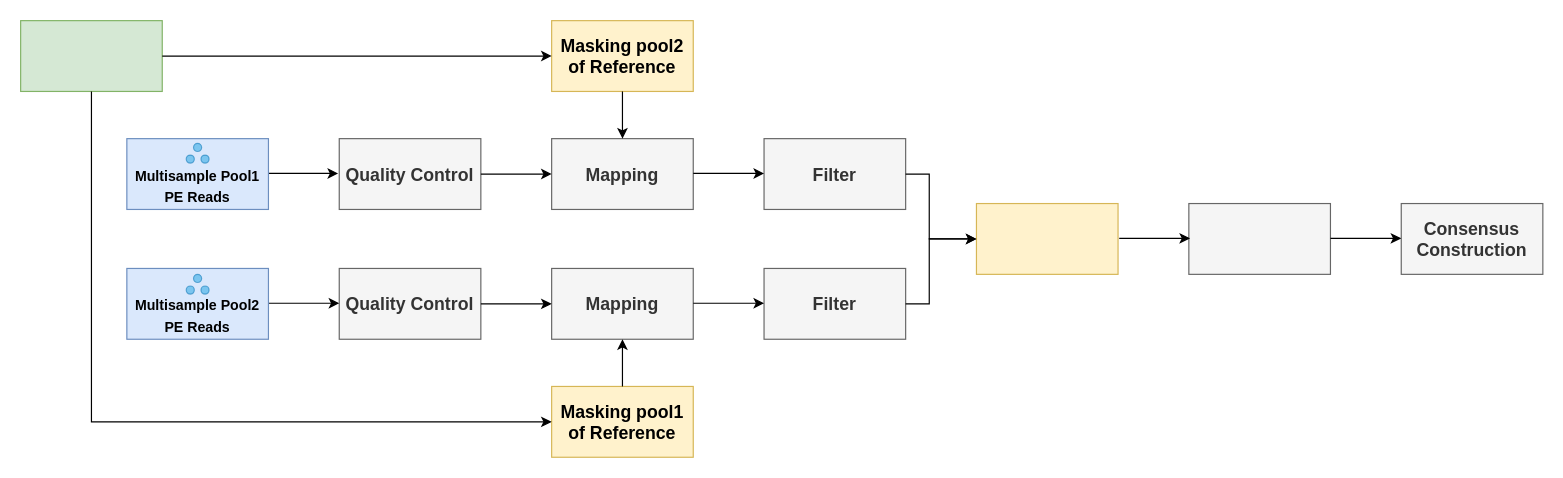
The diagram is 1563 pixels wide and 478 high, and some of its shapes have lost their labels. Each missing label, with the box of its shape:
Primer Scheme: (19, 19, 162, 91)
Trimming: (1188, 202, 1330, 274)
Zip and merge: (975, 202, 1118, 274)
